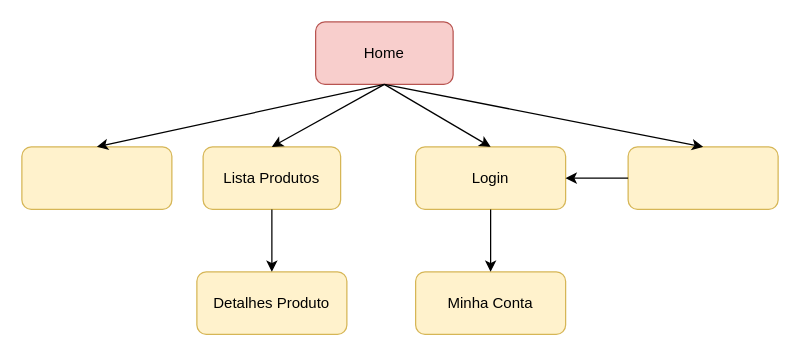
This 800x356 diagram has some shape labels left out. The centre of each missing label's shape, as x and y in pixels:
Carrinho: pixel 96 177
Criar Conta: pixel 702 177
